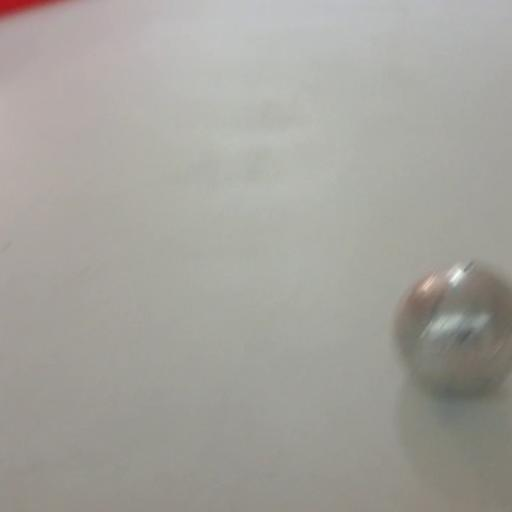alive: (387, 255, 512, 399)
